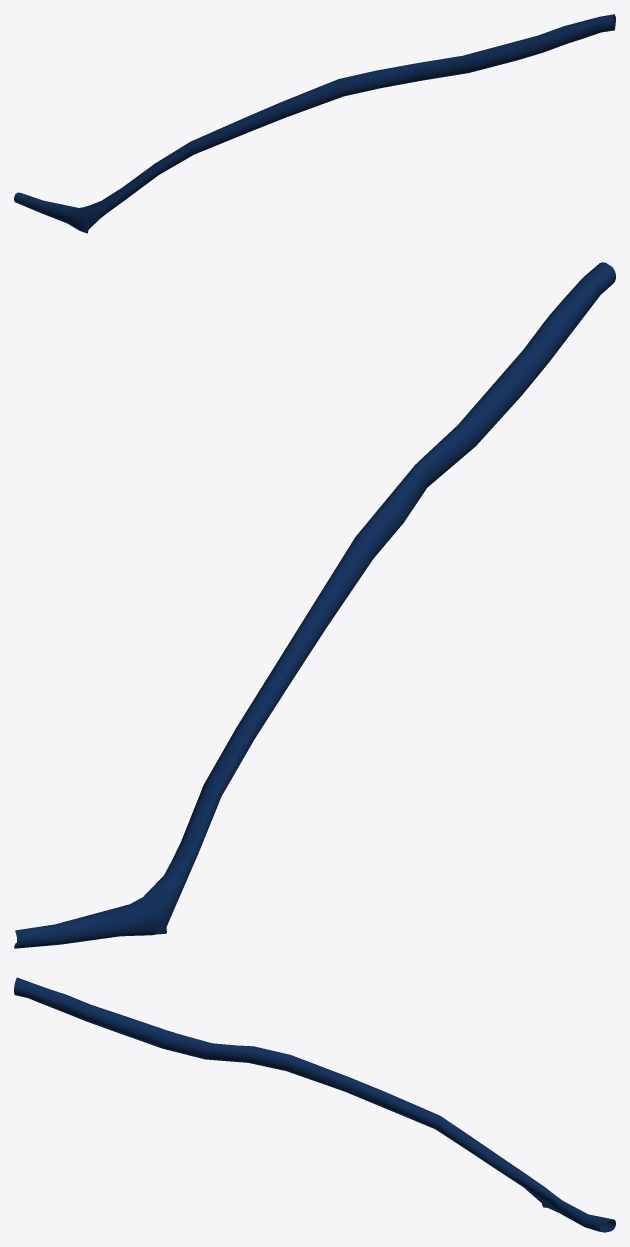
Rendered from R vena jugularis externa.fbx.
3 renders of one model, top to bottom at view 1: azimuth 90°, elevation 25°; view 2: azimuth 150°, elevation 25°; view 3: azimuth 270°, elevation 25°, orthographic. The views are drawn at different scales.
Visible parts, largest first — view 1: R vena jugularis externa, R vena jugularis externa low; view 2: R vena jugularis externa, R vena jugularis externa low; view 3: R vena jugularis externa, R vena jugularis externa low.
Part boxes in pixels (x1,y1,x2,y2): R vena jugularis externa: [14, 14, 615, 233]; R vena jugularis externa low: [30, 16, 615, 232]; R vena jugularis externa: [14, 262, 615, 948]; R vena jugularis externa low: [14, 271, 614, 948]; R vena jugularis externa: [14, 977, 615, 1232]; R vena jugularis externa low: [14, 983, 615, 1232].
Size of the model in its own units: 3.76 by 10.63 by 25.94.
